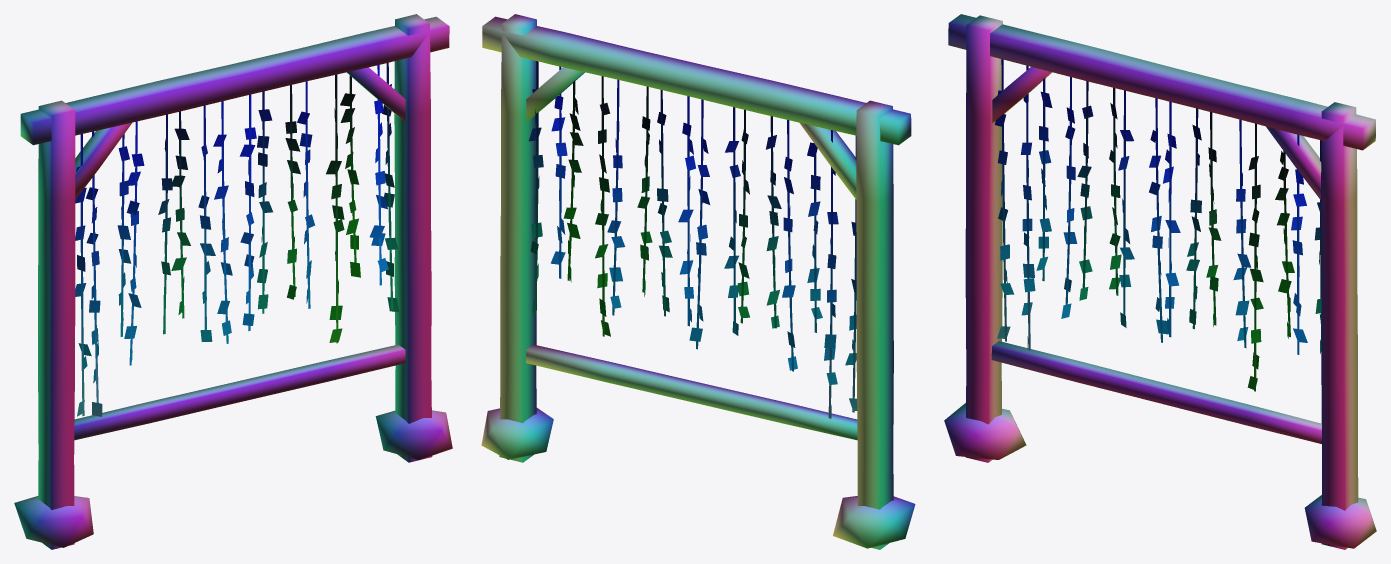
File: SM_Pit_TagRack_LOD1.fbx
The picture shows the model from 3 angles, left to right: view 1: azimuth 30°, elevation 25°; view 2: azimuth 150°, elevation 25°; view 3: azimuth 330°, elevation 25°; orthographic projection.
Visible parts, largest first — view 1: SM_Pit_TagRack_LOD1; view 2: SM_Pit_TagRack_LOD1; view 3: SM_Pit_TagRack_LOD1.
Part boxes in pixels (x1,y1,x2,y2): SM_Pit_TagRack_LOD1: [14, 14, 452, 549]; SM_Pit_TagRack_LOD1: [481, 14, 915, 549]; SM_Pit_TagRack_LOD1: [944, 14, 1376, 549].
Size of the model in its own units: 2.11 by 2.1 by 0.3285.
